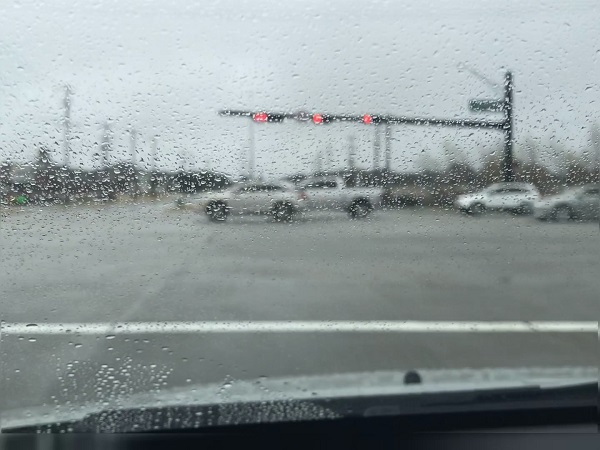car: (190, 178, 304, 222), (453, 182, 539, 212), (539, 182, 600, 222)
traffic light: (251, 108, 270, 123), (309, 112, 323, 127), (361, 112, 373, 125)
truck: (296, 178, 383, 217)
